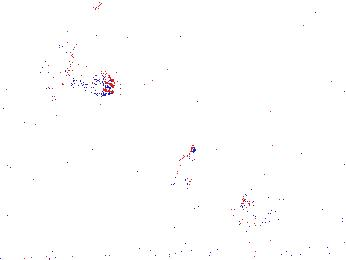flame jellyfish: (31, 48, 115, 104), (228, 173, 301, 223), (151, 144, 202, 212)
